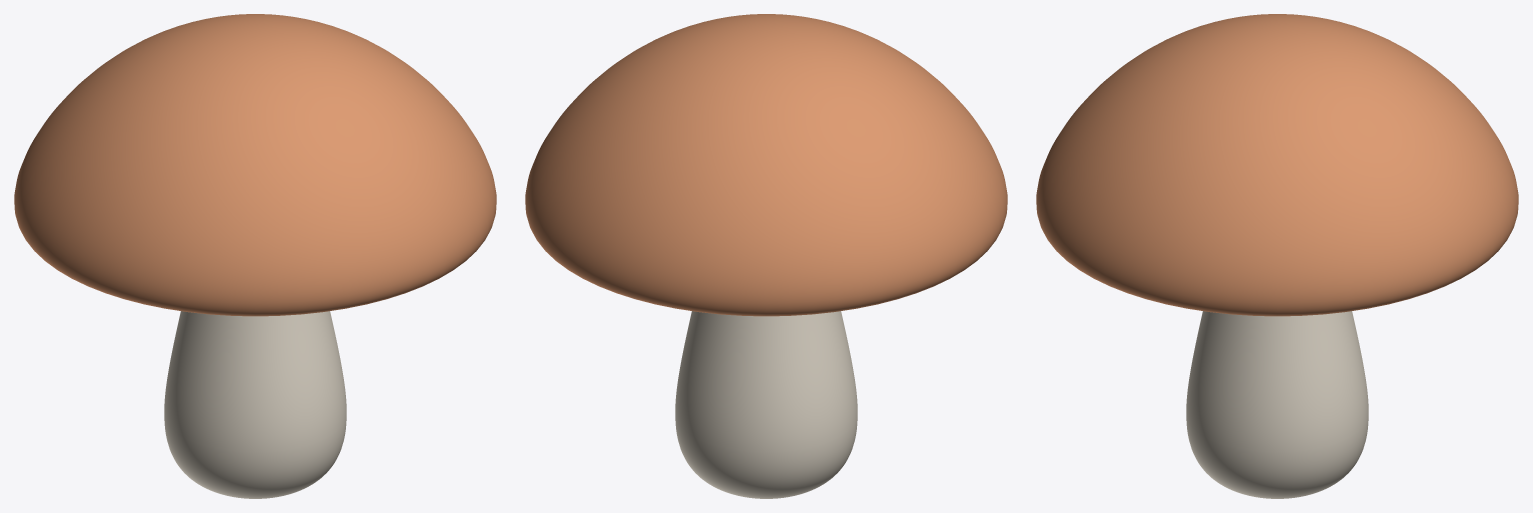
File: karljohan.gltf
The picture shows the model from 3 angles, left to right: view 1: azimuth 30°, elevation 25°; view 2: azimuth 150°, elevation 25°; view 3: azimuth 270°, elevation 25°; orthographic projection.
Bounding box in the file's own units: 0.0886 × 0.0905 × 0.0886.
